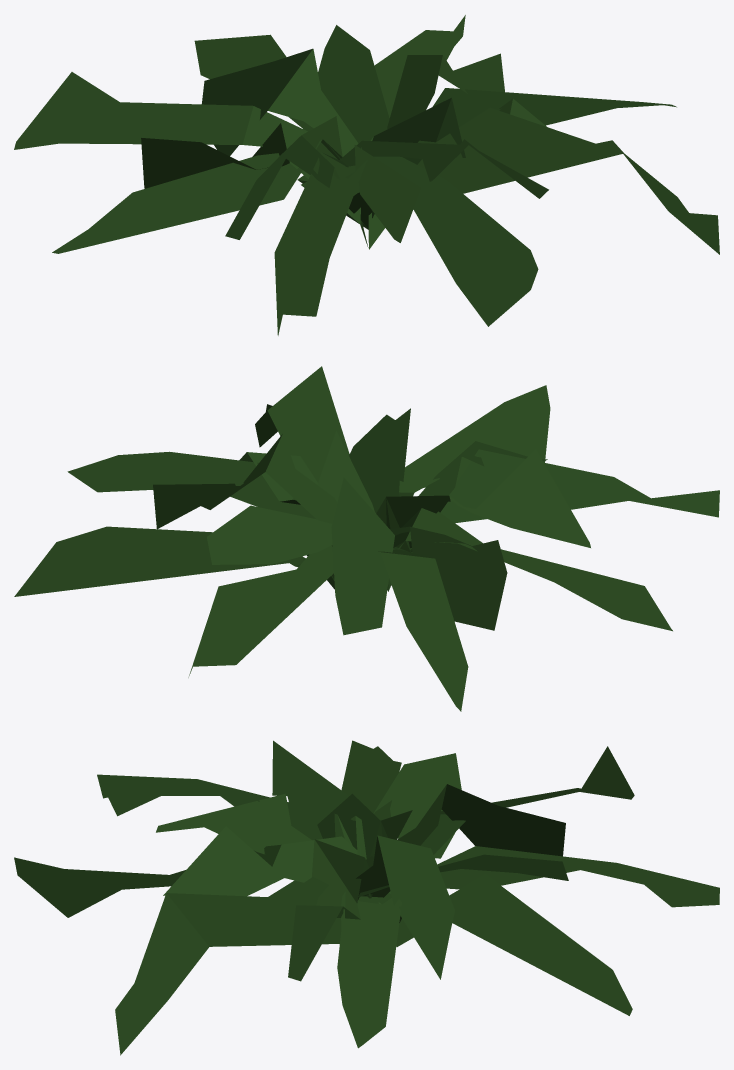
The model's file is bush3.fbx.
The picture shows the model from 3 angles, top to bottom: view 1: azimuth 30°, elevation 25°; view 2: azimuth 150°, elevation 25°; view 3: azimuth 270°, elevation 25°; orthographic projection.
Parts seen in each view (by area): view 1: Plane.002, Cone; view 2: Plane.002; view 3: Plane.002.
Part boxes in pixels (box(x1,y1,x2,y2)): Plane.002: box(14, 15, 719, 335); Cone: box(297, 175, 374, 229); Plane.002: box(14, 366, 719, 711); Plane.002: box(14, 740, 719, 1055).
Bounding box in the file's own units: 14.33 × 3.8 × 14.03.
